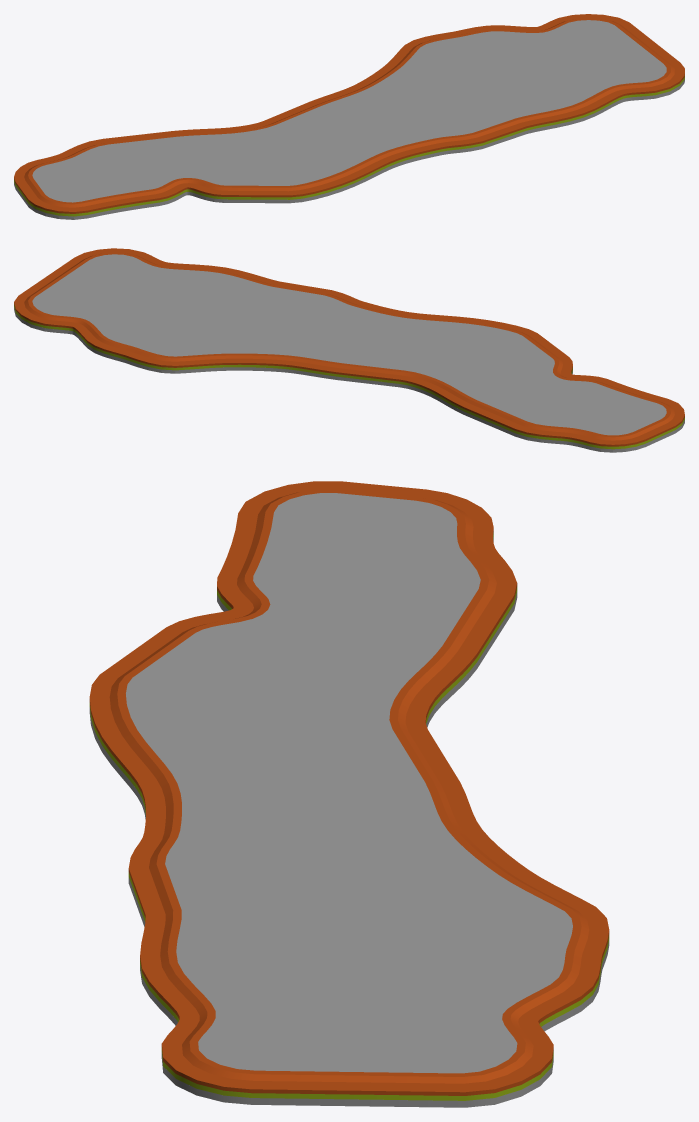
The model's file is 中庄AR_2018_07_07.FBX.
3 renders of one model, top to bottom at view 1: azimuth 30°, elevation 25°; view 2: azimuth 150°, elevation 25°; view 3: azimuth 270°, elevation 25°, orthographic. The views are drawn at different scales.
Visible parts, largest first — view 1: Water, ALL_粗質殼層+原狀土層, ALL_岩層, ALL_原狀土層+岩盤層; view 2: Water, ALL_粗質殼層+原狀土層, ALL_岩層, ALL_原狀土層+岩盤層; view 3: Water, ALL_粗質殼層+原狀土層, ALL_岩層, ALL_原狀土層+岩盤層.
Boxes of the visible parts, left/top/right/bottom form: Water: left=32, top=20, right=666, bottom=202; ALL_粗質殼層+原狀土層: left=14, top=14, right=684, bottom=213; ALL_岩層: left=14, top=78, right=684, bottom=219; ALL_原狀土層+岩盤層: left=14, top=76, right=684, bottom=216; Water: left=32, top=254, right=666, bottom=435; ALL_粗質殼層+原狀土層: left=14, top=248, right=684, bottom=446; ALL_岩層: left=14, top=307, right=684, bottom=452; ALL_原狀土層+岩盤層: left=14, top=304, right=684, bottom=449; Water: left=126, top=493, right=572, bottom=1073; ALL_粗質殼層+原狀土層: left=89, top=481, right=609, bottom=1095; ALL_岩層: left=89, top=537, right=609, bottom=1107; ALL_原狀土層+岩盤層: left=89, top=532, right=609, bottom=1100.
Bounding box in the file's own units: 850 × 12.32 × 305.
